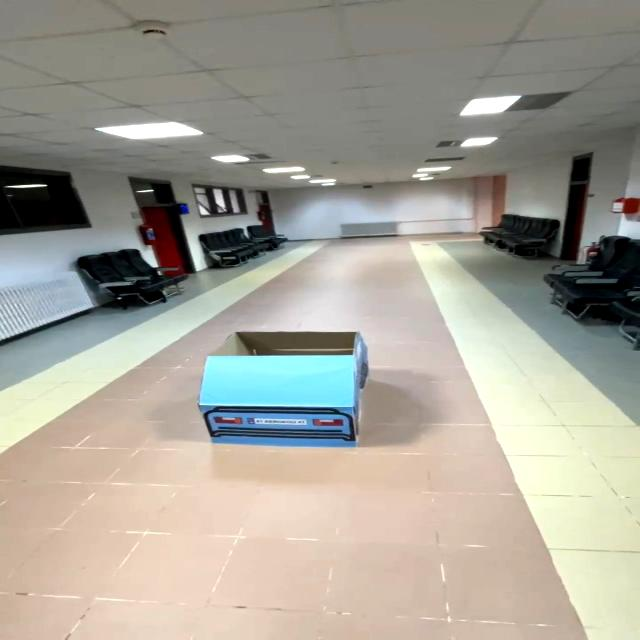blue_car: (164, 315, 396, 467)
